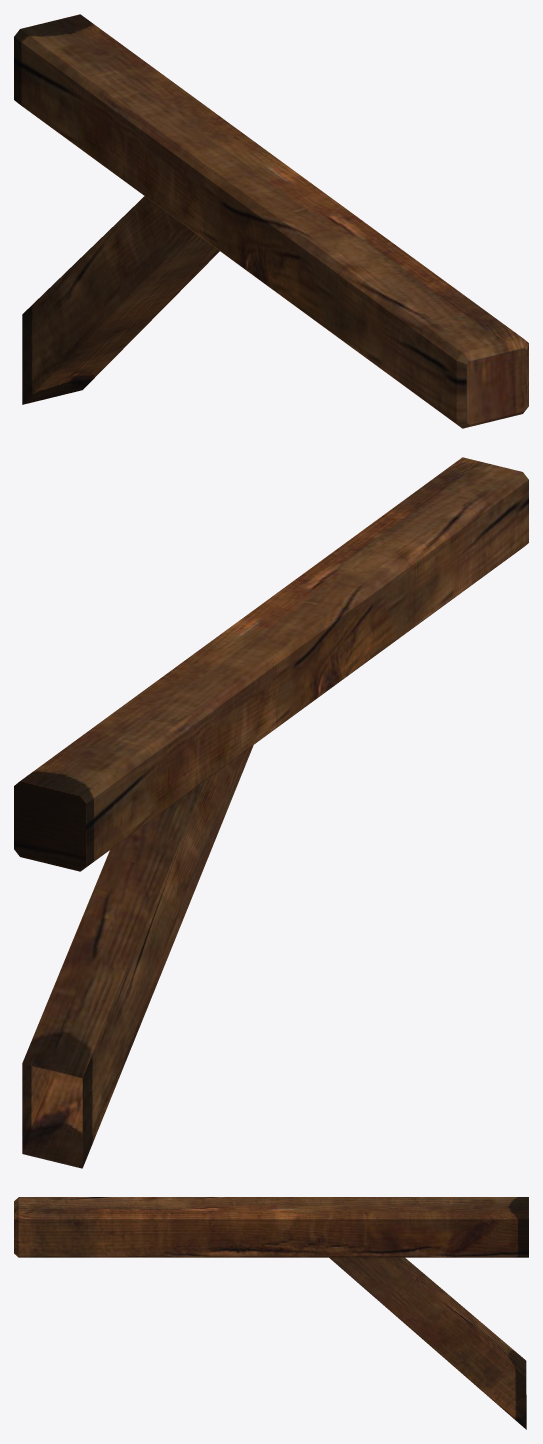
The model's file is Support_Wood_long.obj.
3 views of the same model, one above another, from view 1: azimuth 30°, elevation 25°; view 2: azimuth 150°, elevation 25°; view 3: azimuth 270°, elevation 25° (orthographic). The views are drawn at different scales.
Visible parts, largest first — view 1: Support_Wood_long001; view 2: Support_Wood_long001; view 3: Support_Wood_long001.
Part boxes in pixels (box(x1,y1,x2,y2)): Support_Wood_long001: box(14, 14, 528, 428); Support_Wood_long001: box(14, 457, 528, 1168); Support_Wood_long001: box(14, 1197, 528, 1429).
Bounding box in the file's own units: 10.31 × 50.9 × 110.
